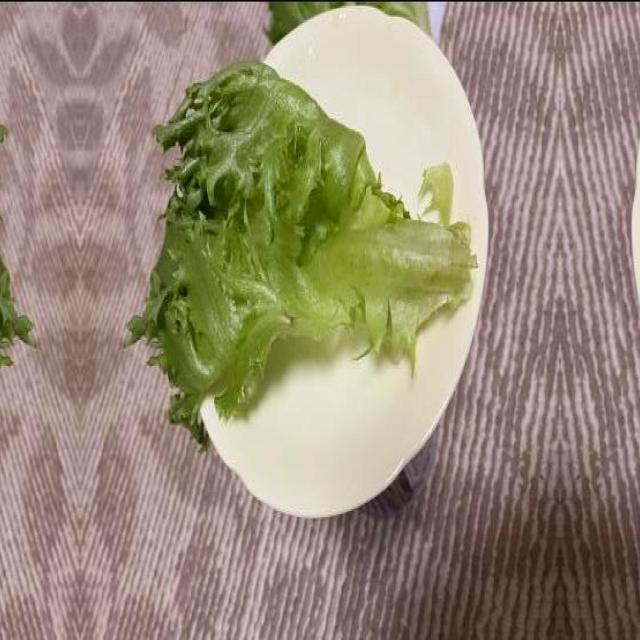healthy: (131, 58, 477, 440), (0, 57, 29, 440)
